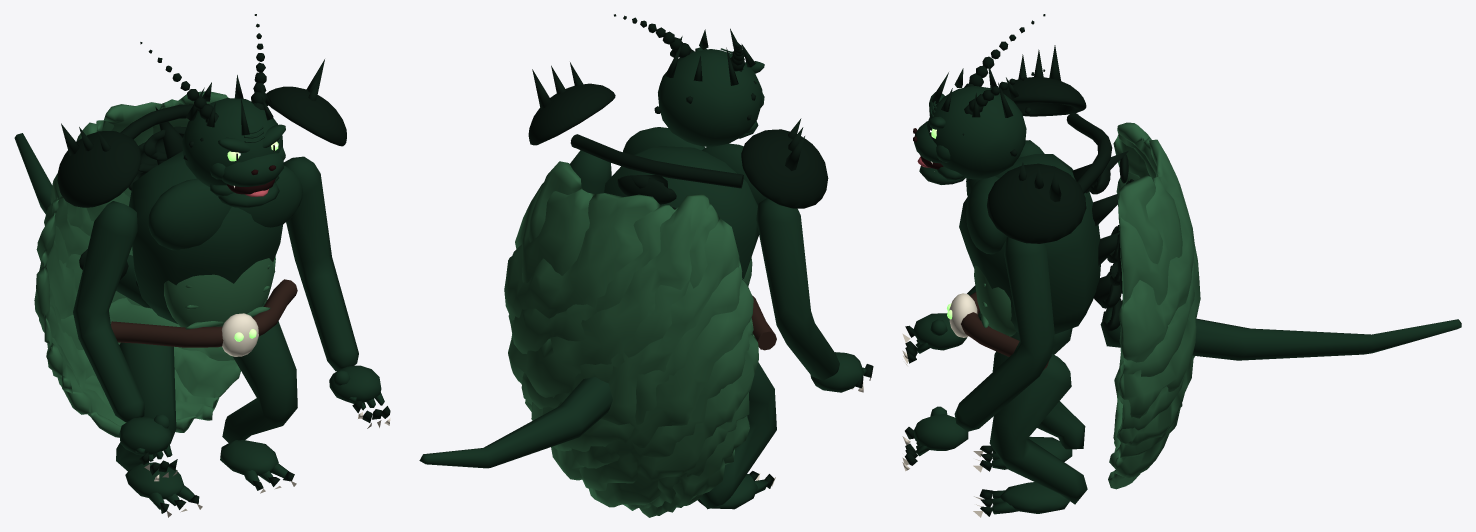
File: hersker_2.glb
3 renders of one model, left to right at view 1: azimuth 30°, elevation 25°; view 2: azimuth 150°, elevation 25°; view 3: azimuth 270°, elevation 25°, orthographic. The views are drawn at different scales.
Parts seen in each view (by area): view 1: krop_net, armH_net, hoved_net, armV_net, benV_net, benH_net, hale_net; view 2: krop_net, hoved_net, armH_net, hale_net, benH_net, armV_net; view 3: krop_net, armV_net, hoved_net, benV_net, hale_net, benH_net, armH_net.
Boxes of the visible parts, x1,y1,x2,y2 form: krop_net: [34, 59, 346, 437]; armH_net: [73, 201, 177, 481]; hoved_net: [140, 14, 285, 207]; armV_net: [283, 156, 390, 428]; benV_net: [220, 303, 297, 493]; benH_net: [116, 342, 202, 517]; hale_net: [14, 133, 150, 308]; krop_net: [504, 62, 828, 517]; hoved_net: [614, 14, 764, 147]; armH_net: [756, 198, 873, 392]; hale_net: [419, 377, 612, 468]; benH_net: [697, 362, 776, 509]; armV_net: [570, 150, 611, 193]; krop_net: [947, 45, 1200, 489]; armV_net: [902, 237, 1054, 471]; hoved_net: [913, 14, 1045, 184]; benV_net: [973, 354, 1087, 517]; hale_net: [1100, 308, 1461, 360]; benH_net: [973, 328, 1085, 472]; armH_net: [902, 140, 1044, 365].
Size of the model in its own units: 2.62 by 4.13 by 4.7.
